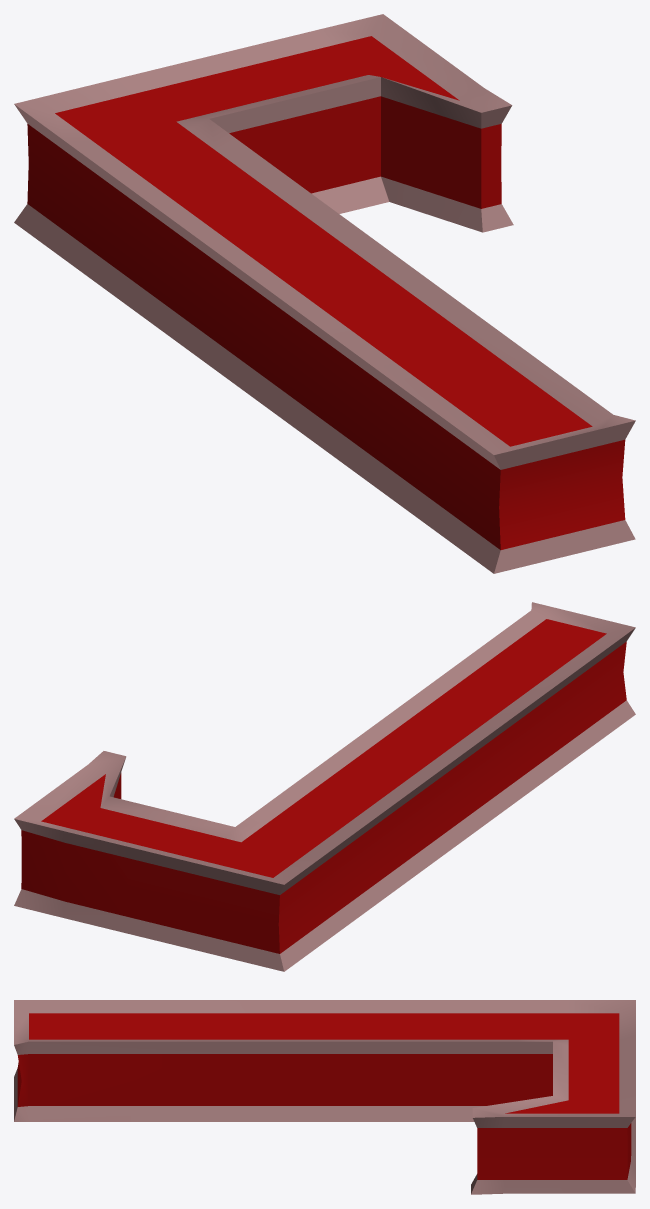
File: FoodPrep_Countertop.fbx
The picture shows the model from 3 angles, top to bottom: view 1: azimuth 30°, elevation 25°; view 2: azimuth 150°, elevation 25°; view 3: azimuth 270°, elevation 25°; orthographic projection. The views are drawn at different scales.
Parts seen in each view (by area): view 1: Countertop; view 2: Countertop; view 3: Countertop.
Part boxes in pixels (x1,y1,x2,y2): Countertop: (14,14,635,573); Countertop: (14,602,635,971); Countertop: (14,1000,635,1194).
Bounding box in the file's own units: 145 × 44.12 × 323.
